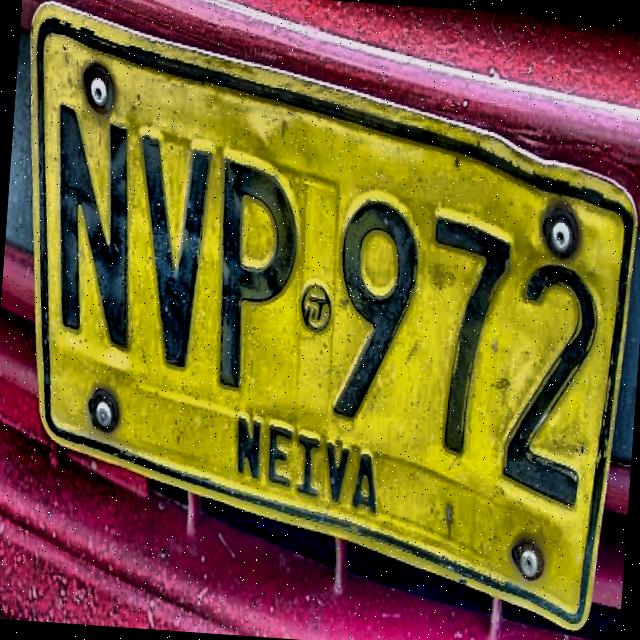2: (495, 248, 613, 519)
7: (414, 204, 520, 469)
9: (324, 180, 425, 441)
N: (49, 96, 138, 361)
P: (208, 143, 306, 401)
V: (136, 126, 220, 382)
